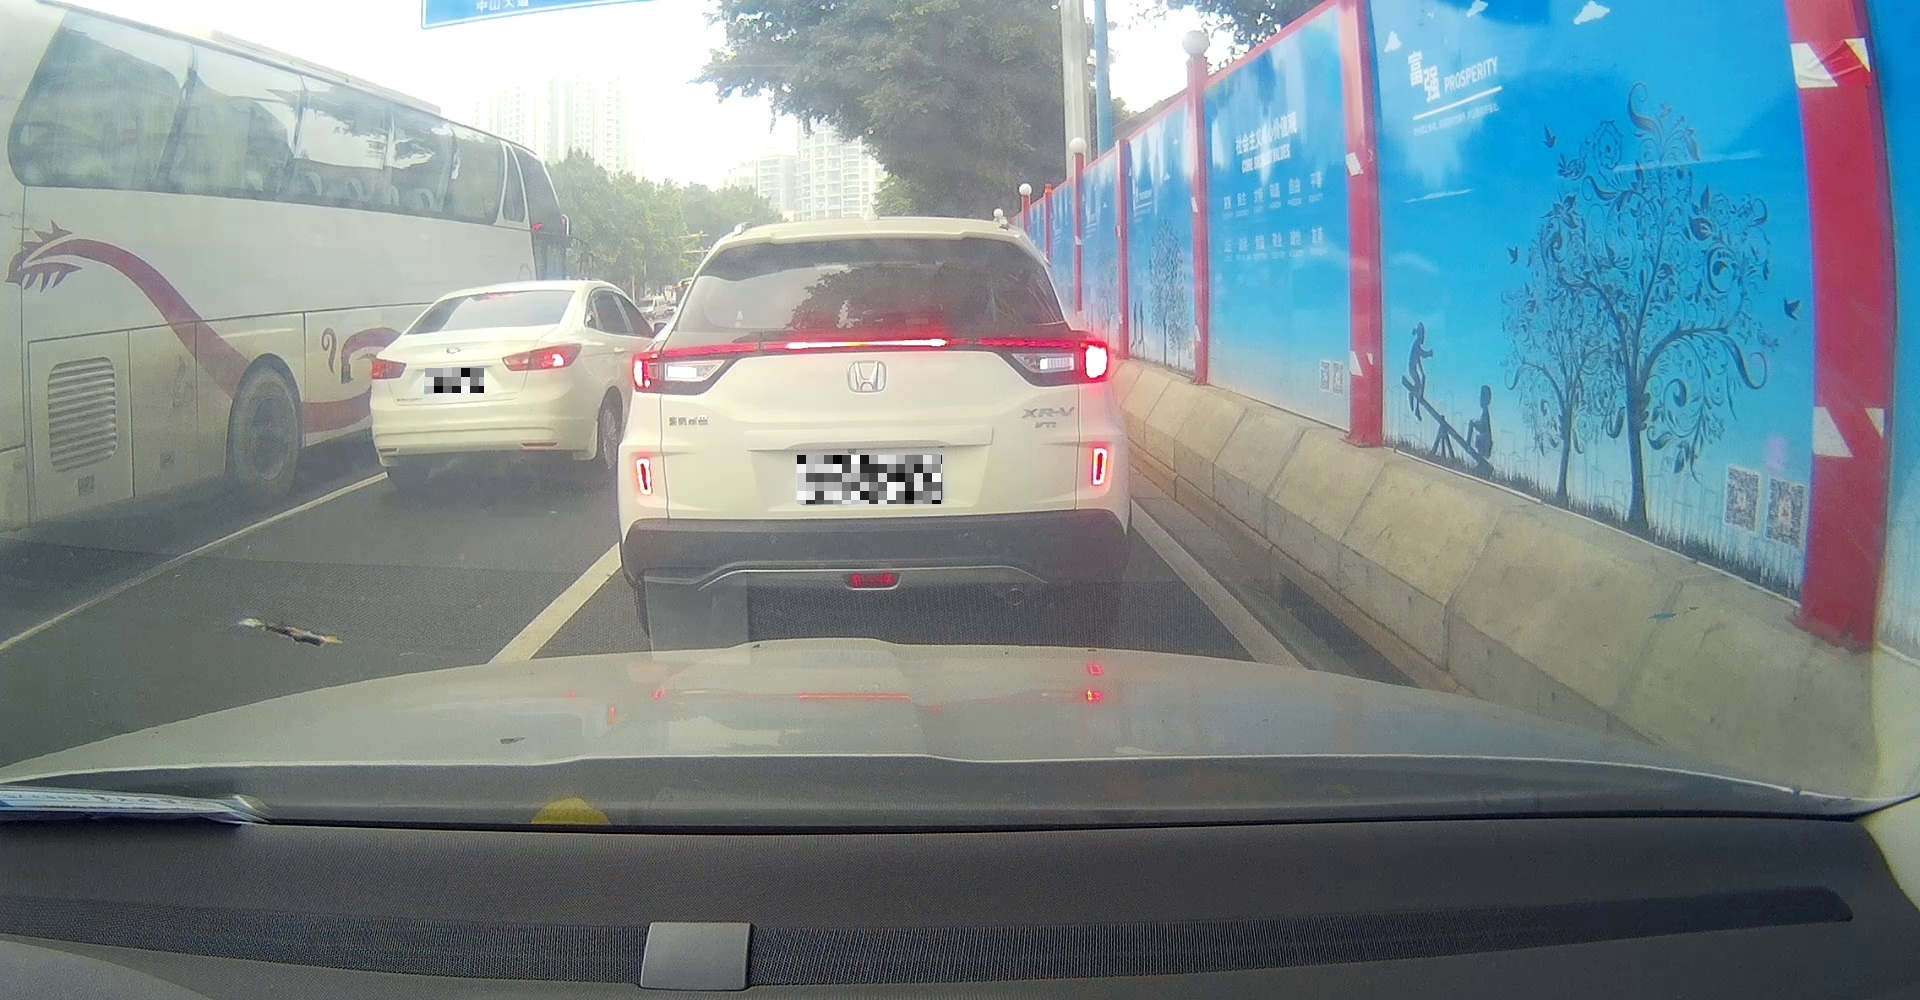L_light: (631, 352, 740, 396), (371, 358, 408, 379)
R_light: (982, 338, 1109, 387), (502, 343, 582, 371)
T_light: (785, 339, 947, 350), (490, 293, 519, 297)
day-brake: (616, 216, 1131, 638)
day-no: (370, 280, 590, 491)
plate_1: (425, 368, 484, 393)
plate_2: (797, 456, 942, 504)
